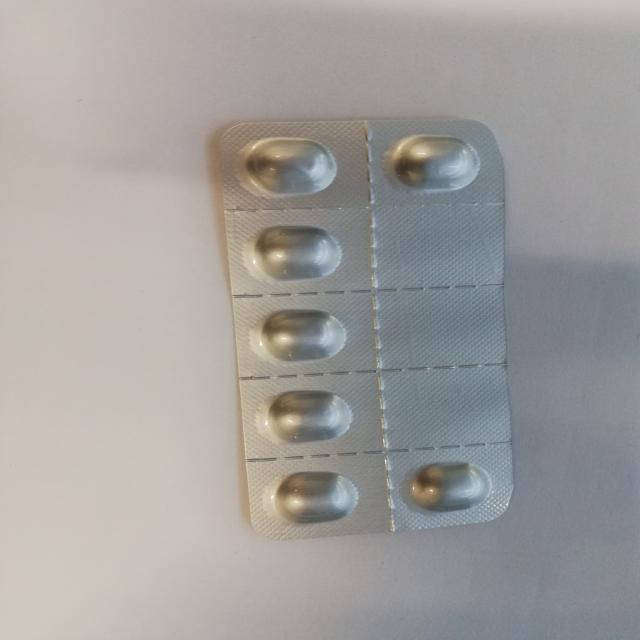Pill: (233, 134, 350, 206), (378, 131, 498, 197), (398, 448, 506, 520), (230, 225, 350, 283), (254, 388, 365, 448), (264, 464, 366, 529), (252, 307, 354, 367)
